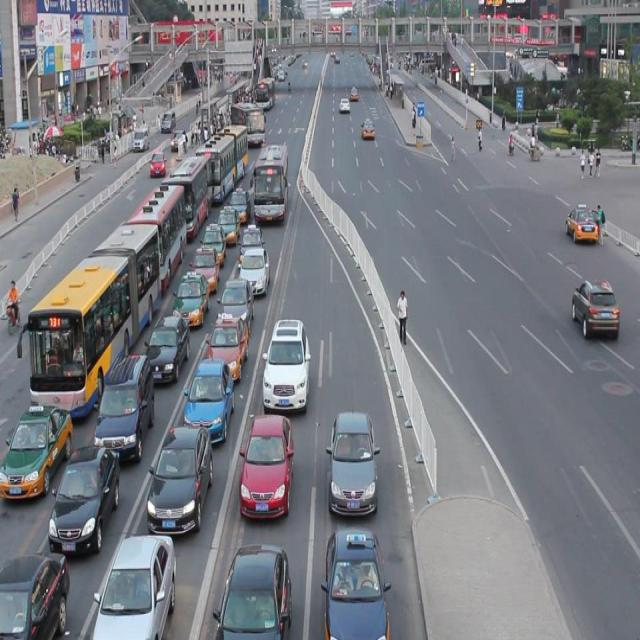car: (93, 522, 175, 640), (320, 525, 391, 640), (48, 439, 121, 548), (214, 537, 290, 640), (148, 420, 214, 530), (1, 398, 74, 497), (0, 545, 70, 640), (95, 346, 154, 456), (326, 406, 379, 509), (240, 409, 292, 513), (262, 314, 311, 411), (184, 356, 233, 438), (145, 308, 189, 381), (206, 307, 249, 379), (571, 278, 618, 337), (218, 274, 254, 332), (172, 267, 209, 322), (189, 239, 220, 290), (238, 244, 270, 290), (564, 203, 598, 240), (239, 218, 264, 264), (201, 218, 226, 260), (216, 201, 240, 241), (227, 183, 251, 218), (359, 119, 374, 138)
van: (17, 215, 162, 416), (124, 178, 186, 287), (159, 148, 213, 235), (197, 118, 248, 200), (250, 144, 289, 220), (230, 103, 266, 145)
